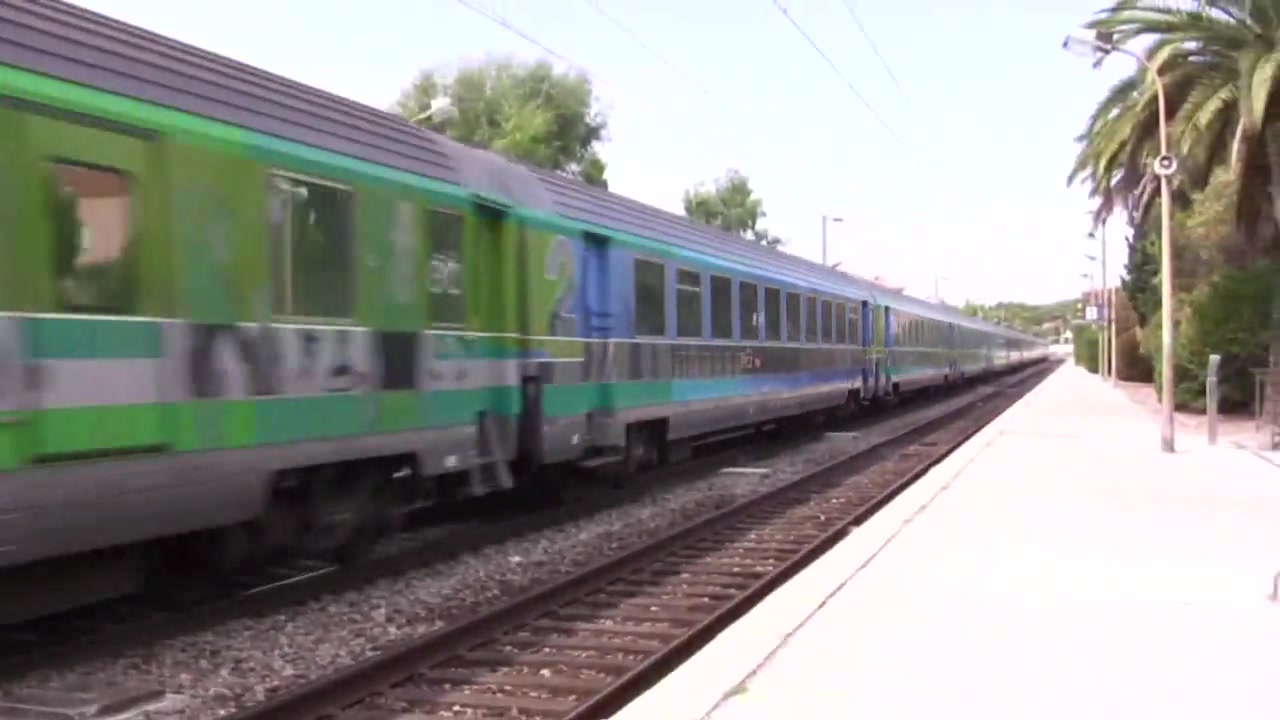train: (1, 1, 1055, 585)
